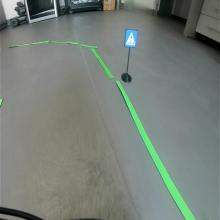crosswalk: (125, 28, 138, 49)
